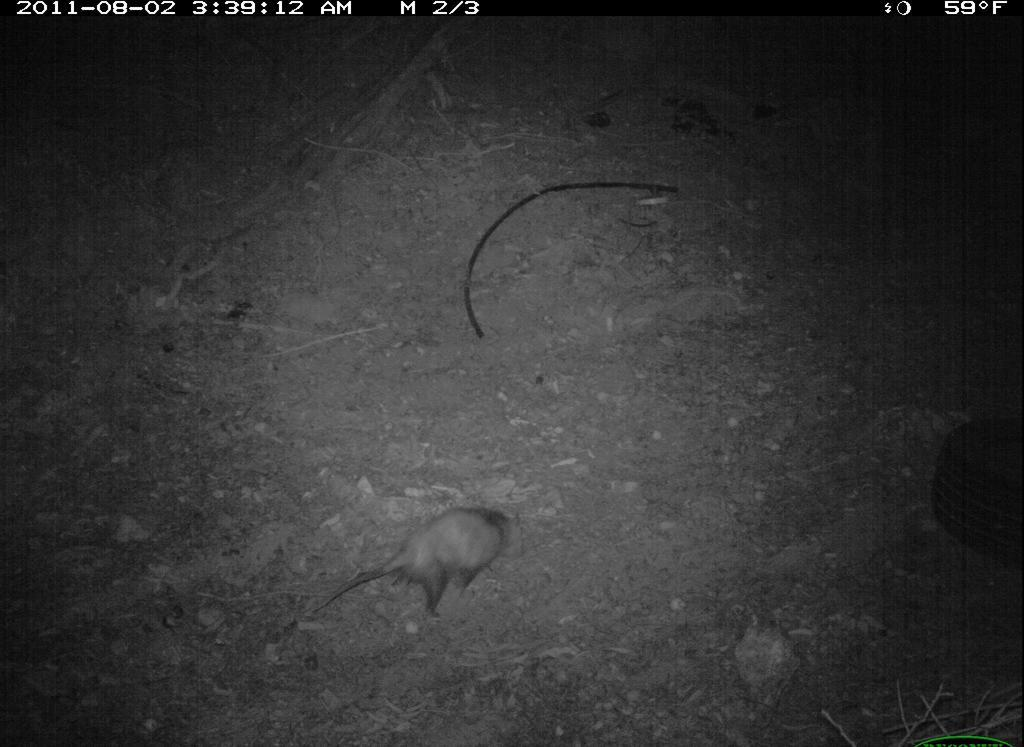opossum: (310, 497, 541, 617)
